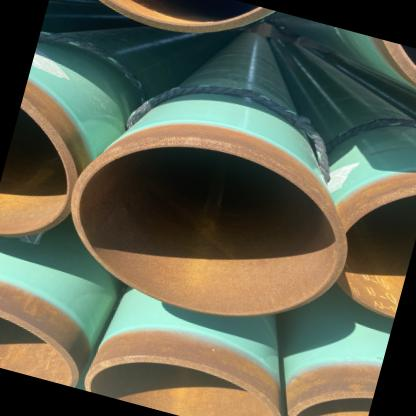clean: (216, 132, 252, 162)
